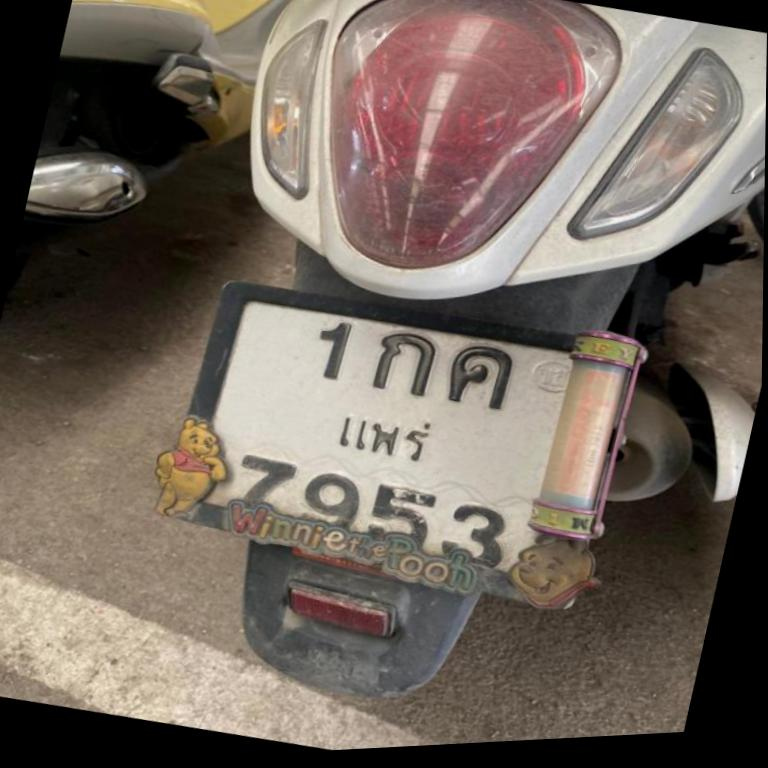license plate: (179, 282, 572, 592)
